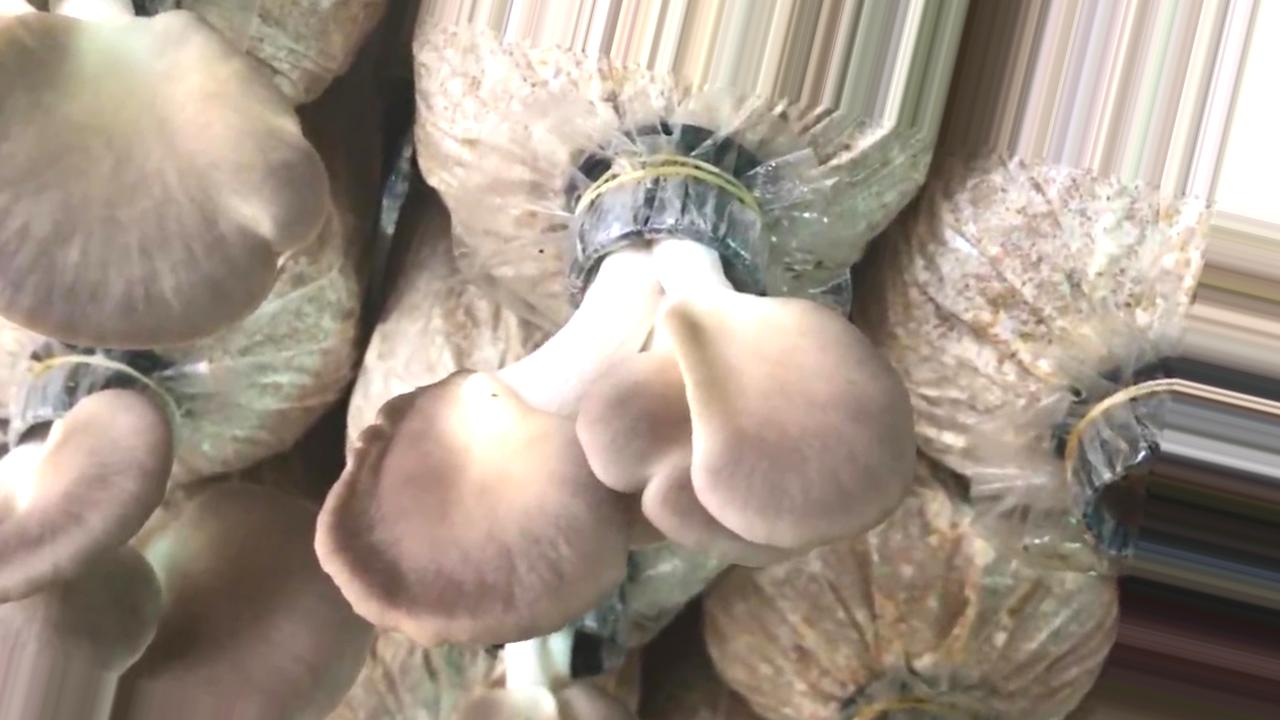nam: (316, 165, 912, 644), (1, 366, 370, 716), (2, 1, 323, 349), (462, 567, 635, 719)
